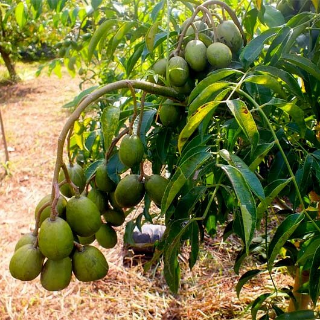coc: (38, 217, 72, 258), (67, 195, 100, 235), (10, 242, 40, 281), (115, 175, 144, 208), (119, 133, 144, 166), (168, 56, 189, 86)
